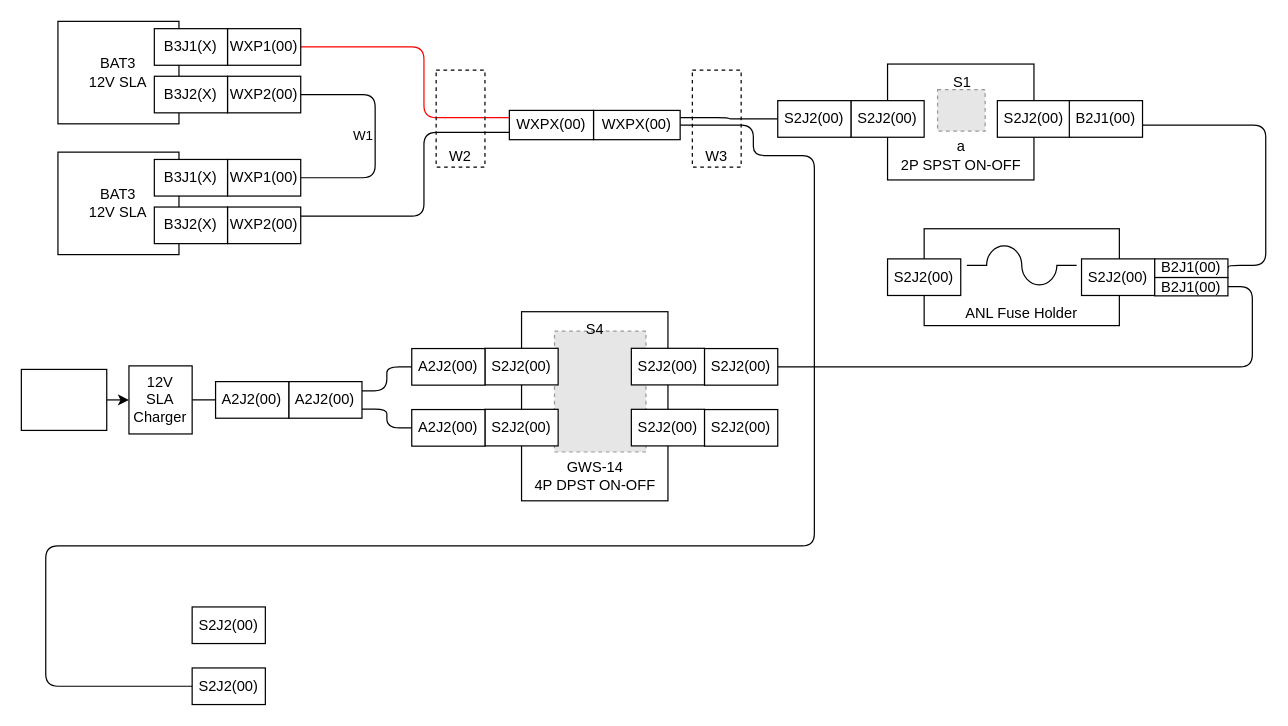
This 1288x726 diagram has some shape labels left out. Grey dashed boxes stand in for pictures. The shapes that lost their labels are listed below. From the top down, each one's centre as x and y in pixels, then its label:
(1021,265): ANL-50A
(63,399): 120V 60Hz Utility
